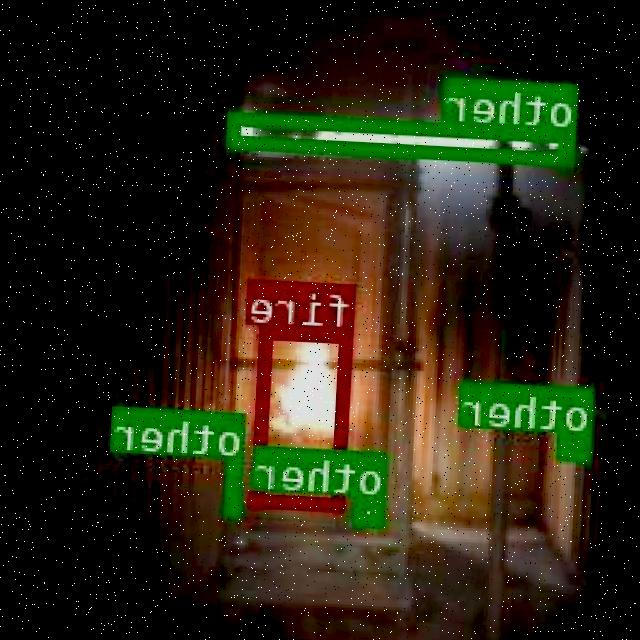fire: (254, 324, 356, 510)
